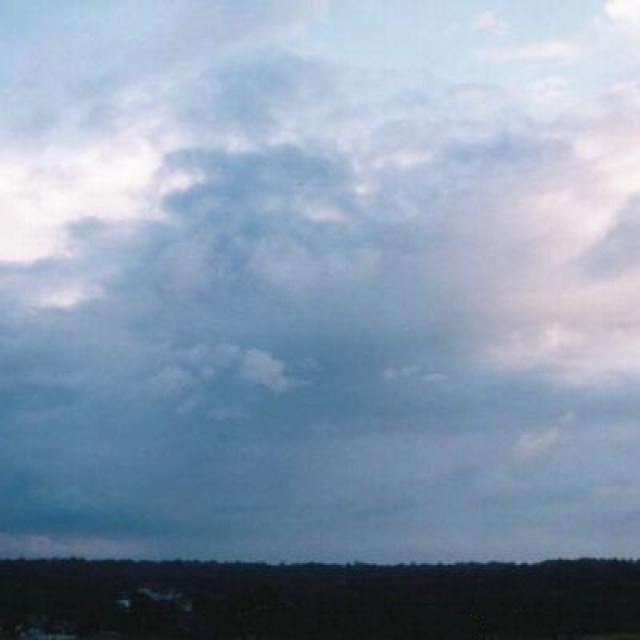Sc: (1, 40, 640, 489)
